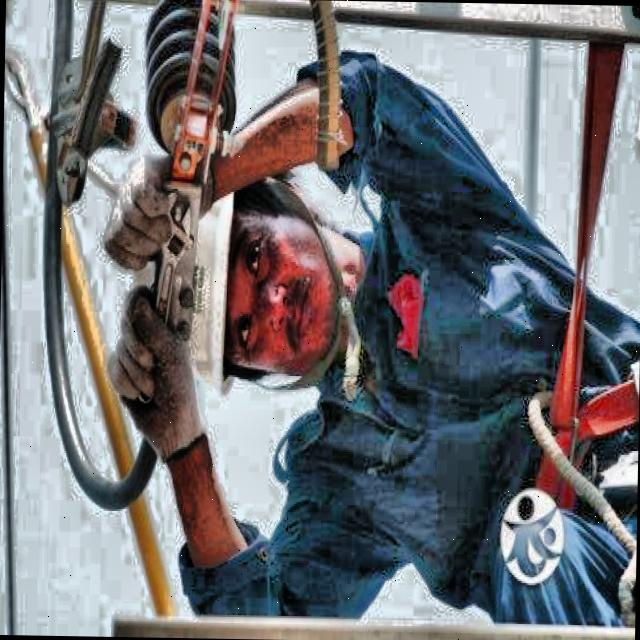helmet: (128, 134, 346, 388)
